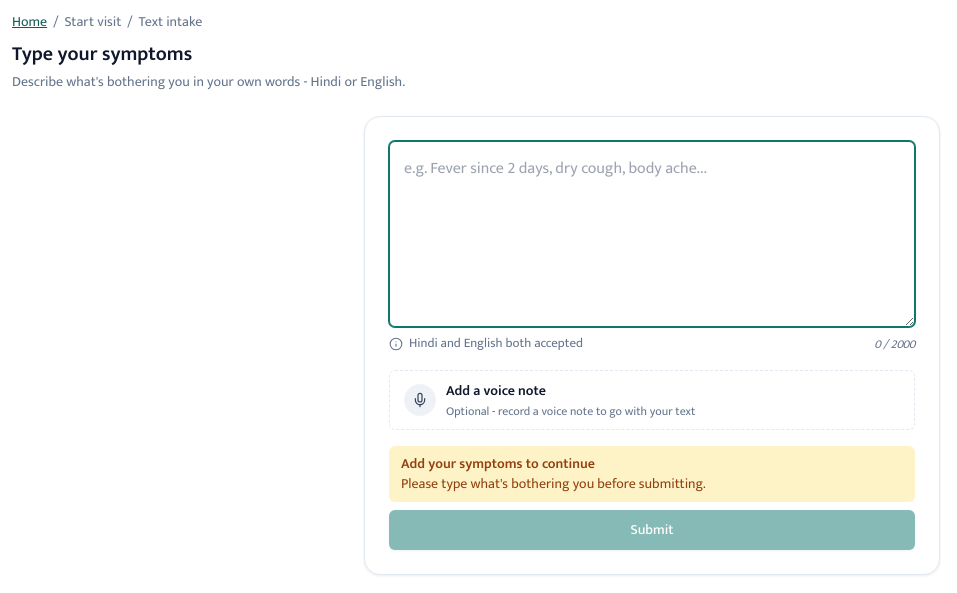
Test: TextIntakePage optional voice-note attach (doctor-only) › attach -> recording tips the live duration -> stop -> removable preview
Click the button with test id "note-attach". click: (652, 400)
box: [389,370,915,430]
Wait 4000 ms
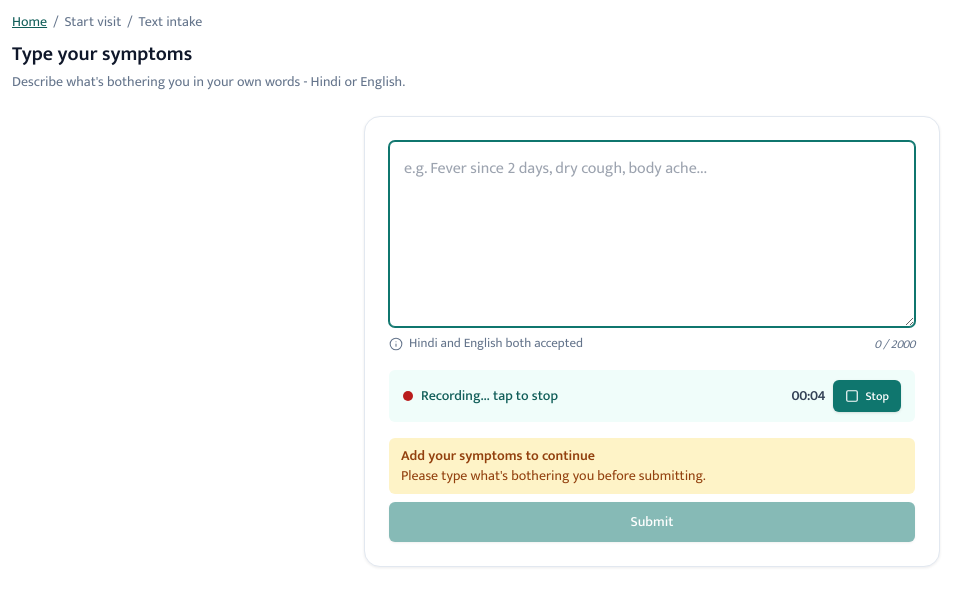
Expected: the button with test id "note-attach" is gone
Expected: the text with test id "note-rec-dur" reads "00:04", [792,384,825,407]
Click the button with test id "note-stop". click: (867, 396)
box: [833,380,901,412]
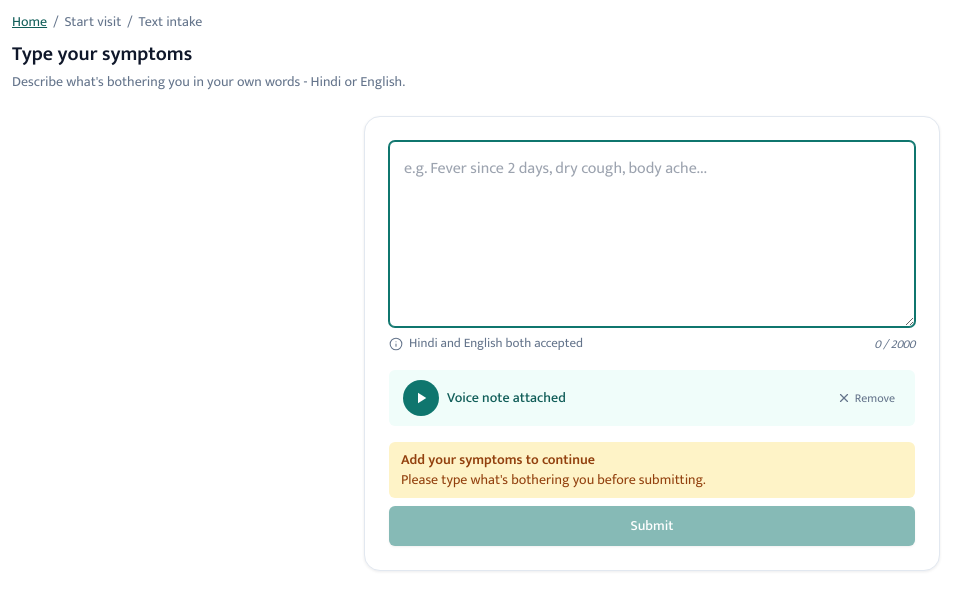
Expected: the element with test id "note-recording" is gone
Expected: the element with test id "note-preview" shows "Voice note attached", [447,386,566,409]
Click the button with test id "note-remove". click: (866, 398)
box: [831,386,901,410]
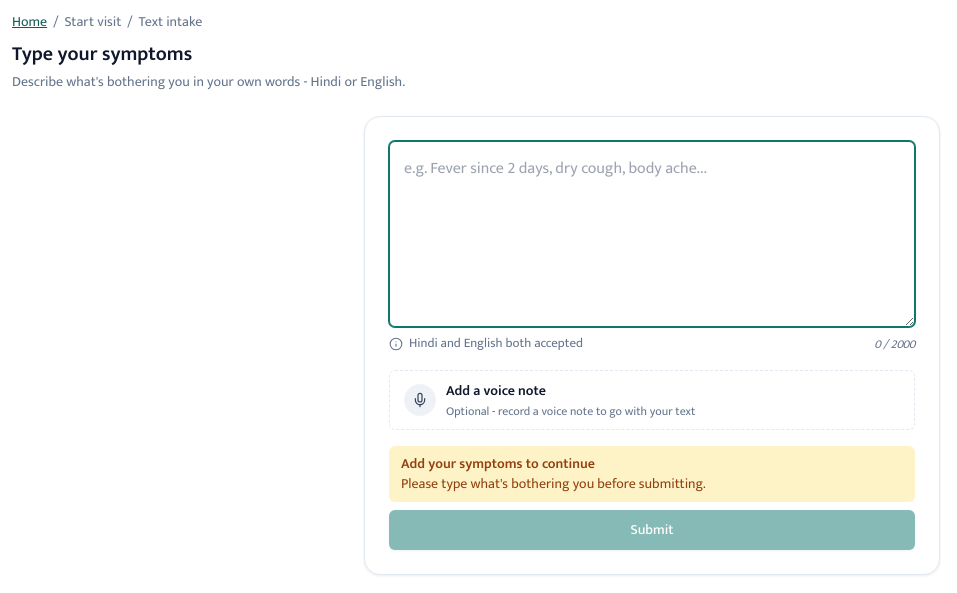
Expected: the element with test id "note-preview" is gone
